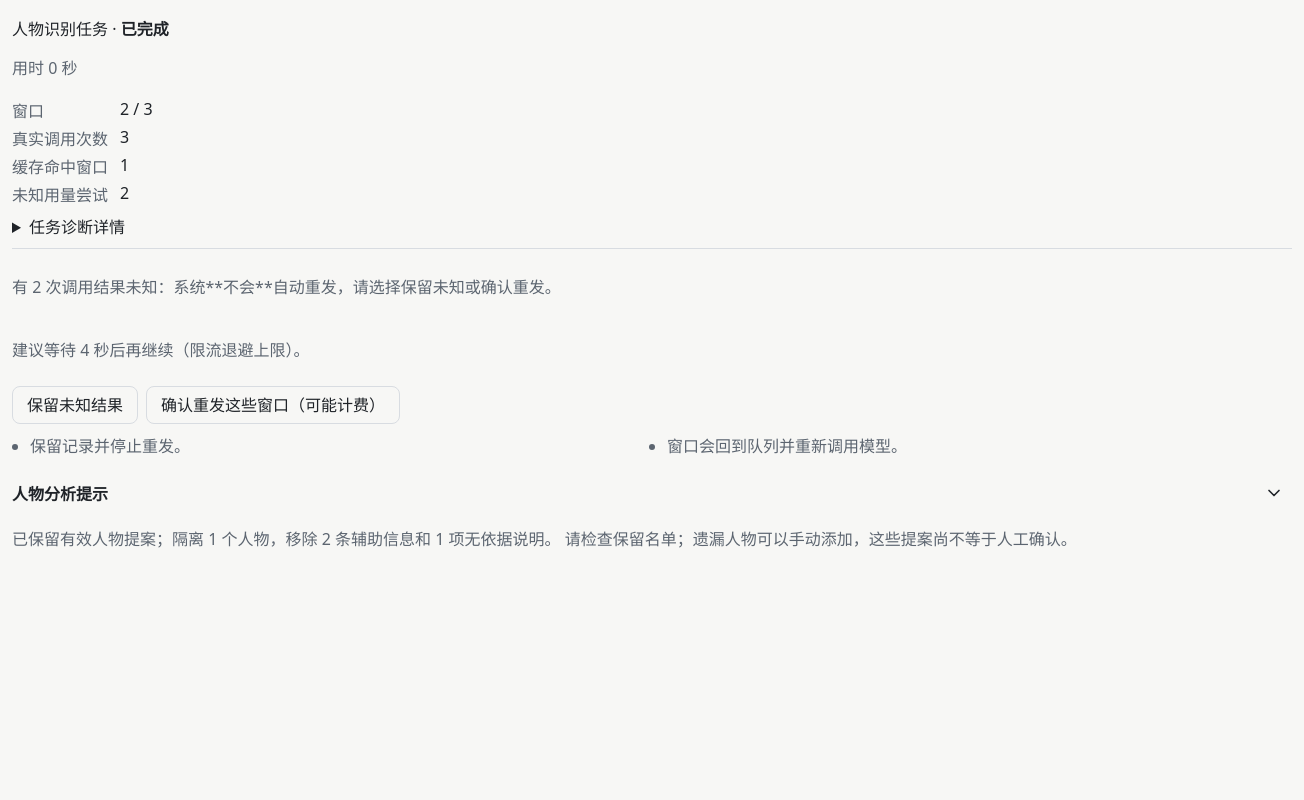
Test: JobPanel › shows retained roster proposal warnings instead of an opaque diagnostic object
This screenshot has width=1304, height=800.
Expected: the text "已保留有效人物提案；隔离 1 个人物，移除 2 条辅助信息和 1 项无依据说明。 请检查保留名单；遗漏人物可以手动添加，这些提案尚不等于人工确认。" is shown, [12,528,1077,550]
Click the button named "展开人物分析提示". click: (1274, 493)
box: [1256,475,1292,511]
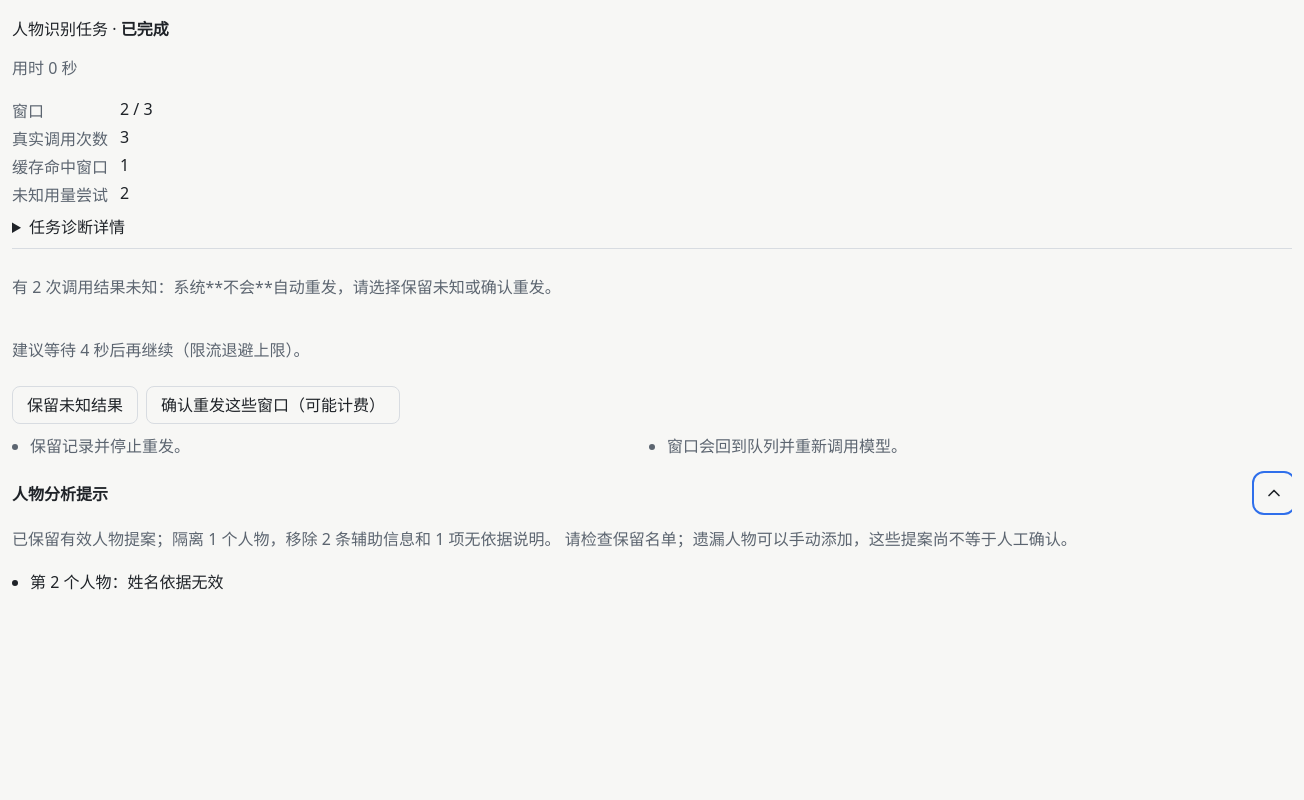
Expected: the list item "第 2 个人物：姓名依据无效" is shown, [30,571,224,593]
